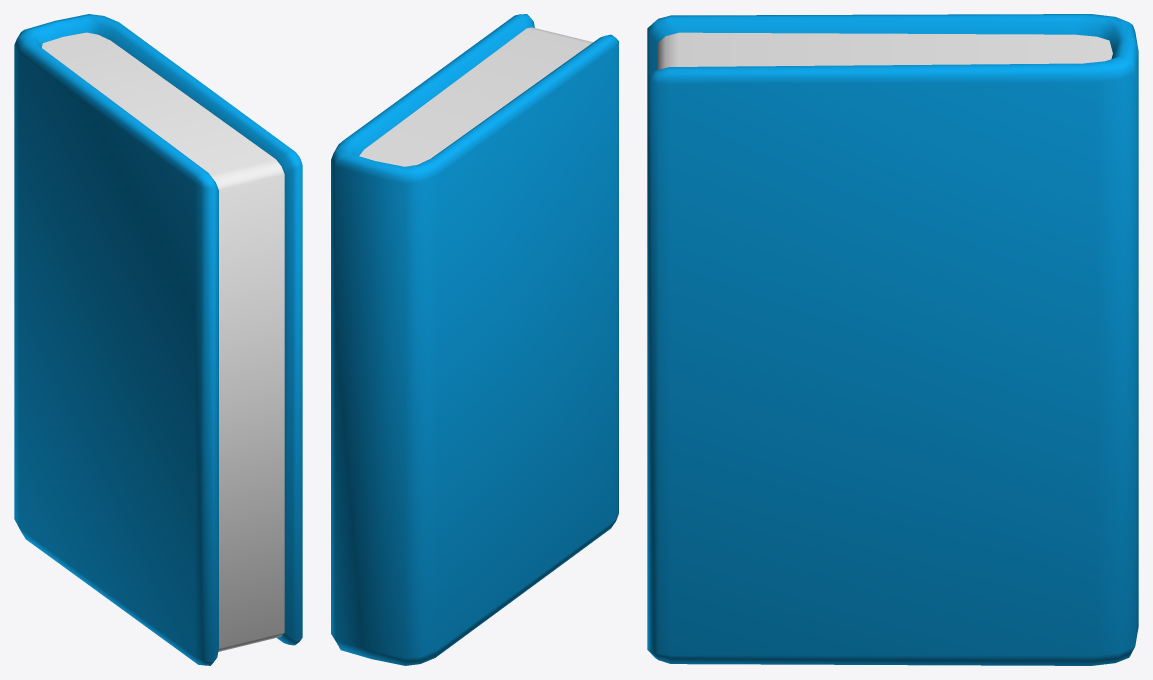
The model's file is Book01.fbx.
3 views of the same model, side by side, from view 1: azimuth 30°, elevation 25°; view 2: azimuth 150°, elevation 25°; view 3: azimuth 270°, elevation 25° (orthographic). The views are drawn at different scales.
Visible parts, largest first — view 1: Book01; view 2: Book01; view 3: Book01.
Part boxes in pixels (<box>): Book01: <box>14,14,302,665</box>; Book01: <box>331,14,618,665</box>; Book01: <box>647,14,1138,665</box>.
Bounding box in the file's own units: 0.0443 × 0.1506 × 0.2031.
